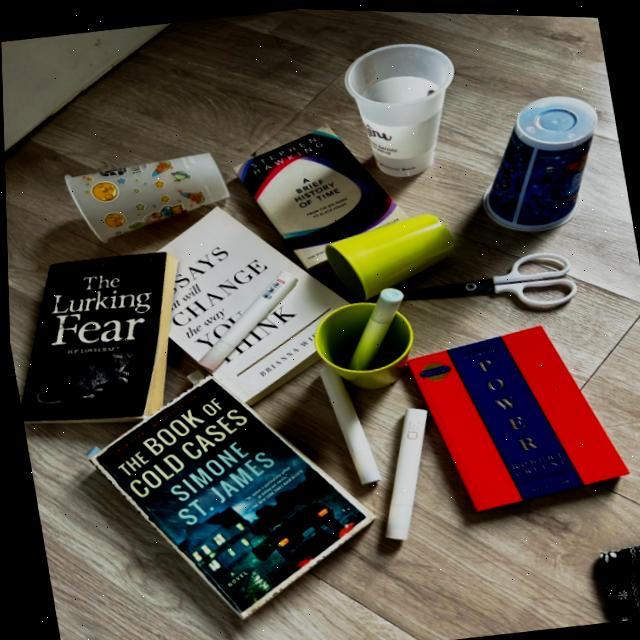Book: (91, 377, 369, 615), (407, 323, 625, 507), (158, 206, 348, 406), (18, 251, 175, 423), (237, 126, 400, 270)
HighLight Pen: (197, 270, 296, 371), (318, 364, 377, 481), (383, 406, 425, 537), (347, 286, 401, 367)
Plastic Cup: (482, 93, 596, 228), (344, 41, 453, 175), (64, 152, 228, 241)
Scissors: (401, 250, 576, 302)
WaterGlass: (324, 212, 453, 299), (313, 301, 412, 386)
